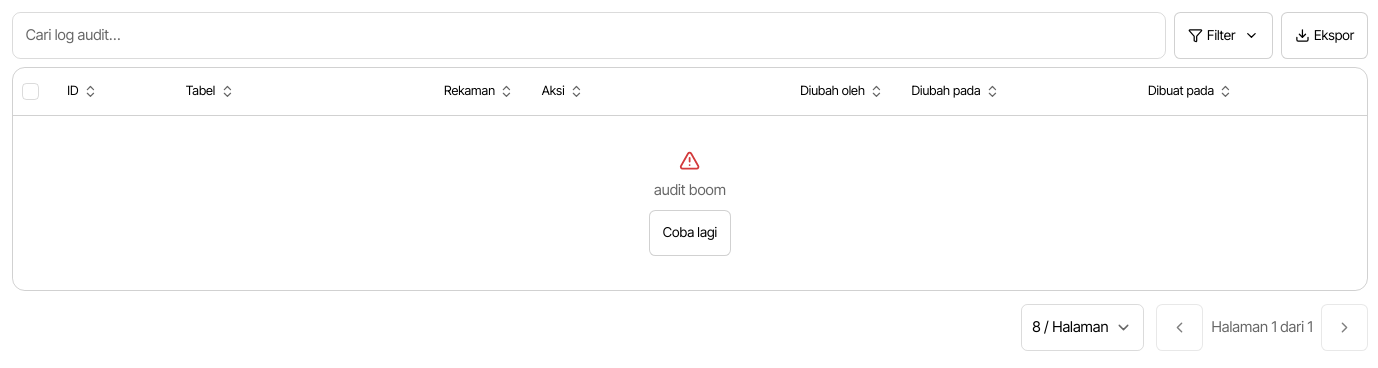
it: AuditLogsSection › shows the error state with retry and refetches
The width and height of the screenshot is (1378, 368).
Expected: the text "audit boom" is shown, [654,180,726,201]
Click the button "Coba lagi": [690, 233] box [649,210,731,256]
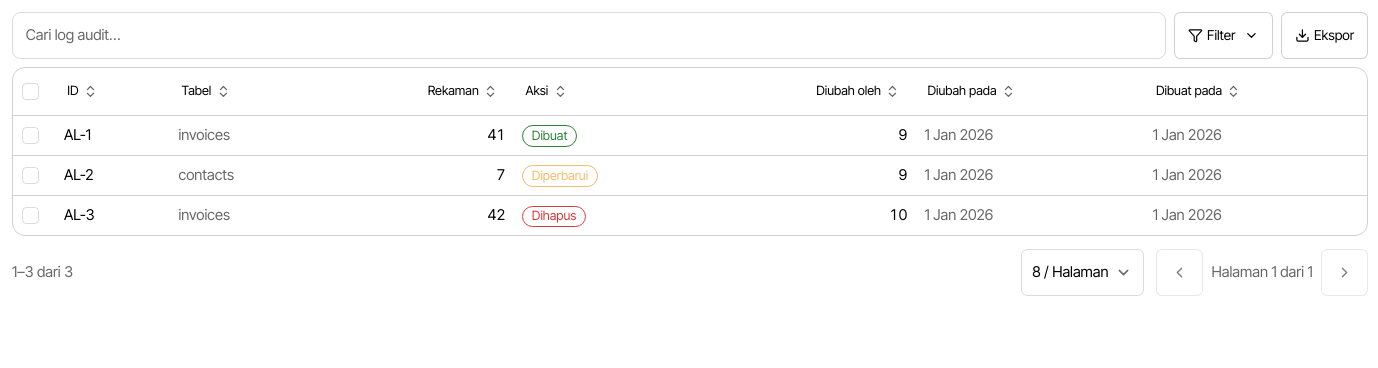
Result: the text "AL-1" is shown at [64,126,91,144]
